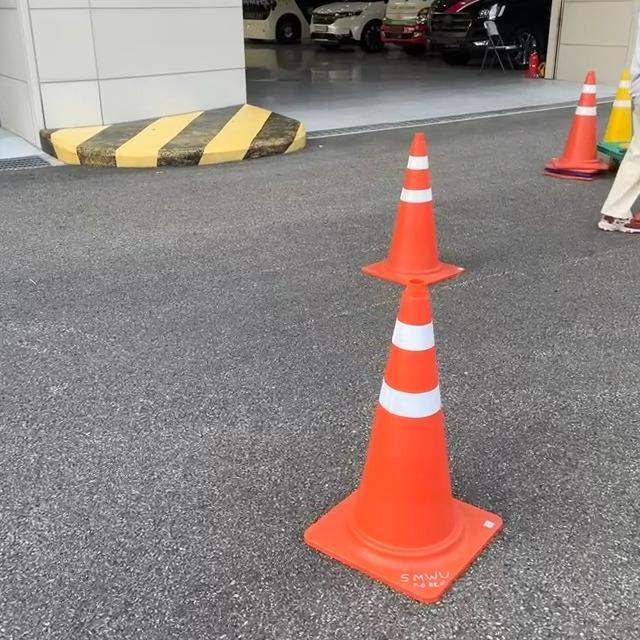fallen_object: (263, 271, 526, 632), (323, 103, 474, 283), (527, 75, 640, 196)
